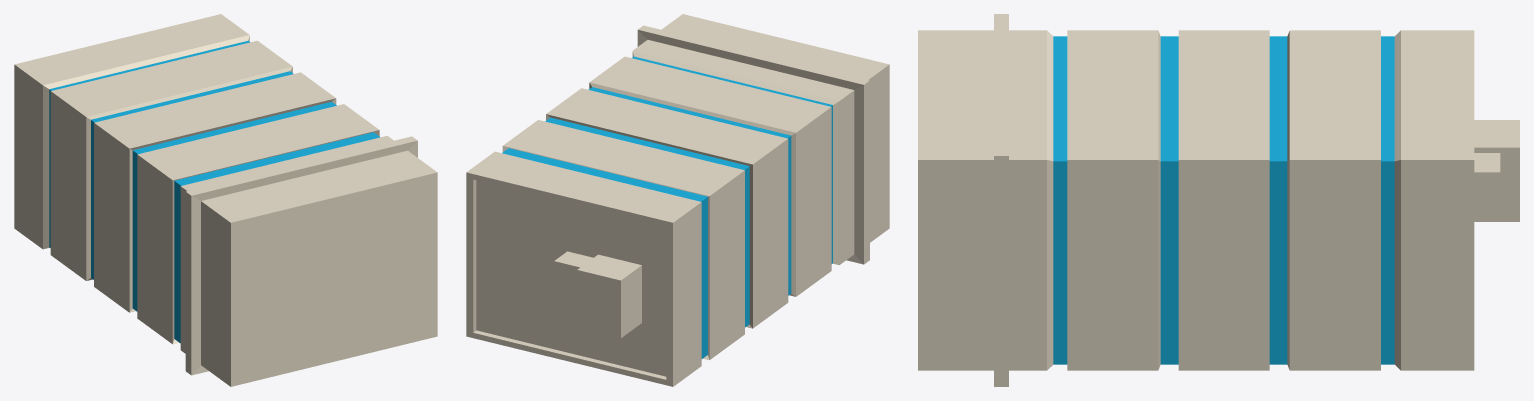
The model's file is House_3.fbx.
The picture shows the model from 3 angles, left to right: view 1: azimuth 30°, elevation 25°; view 2: azimuth 150°, elevation 25°; view 3: azimuth 270°, elevation 25°; orthographic projection. The views are drawn at different scales.
Visible parts, largest first — view 1: Cube.075; view 2: Cube.075; view 3: Cube.075.
Part boxes in pixels (x1=…): Cube.075: x1=14, y1=14, x2=437, y2=386; Cube.075: x1=466, y1=14, x2=889, y2=386; Cube.075: x1=918, y1=14, x2=1519, y2=386.
Size of the model in its own units: 4771 by 3618 by 8546.
